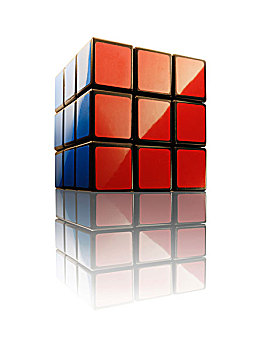cube: (52, 37, 209, 195)
